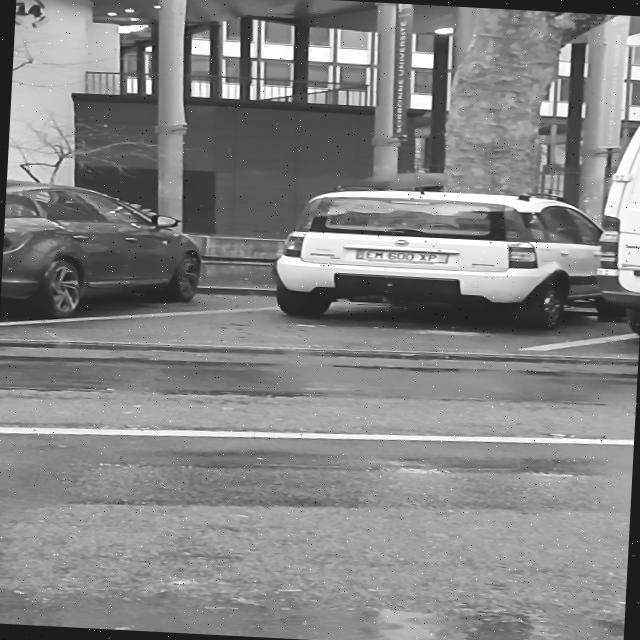Autre: (346, 243, 458, 267)
